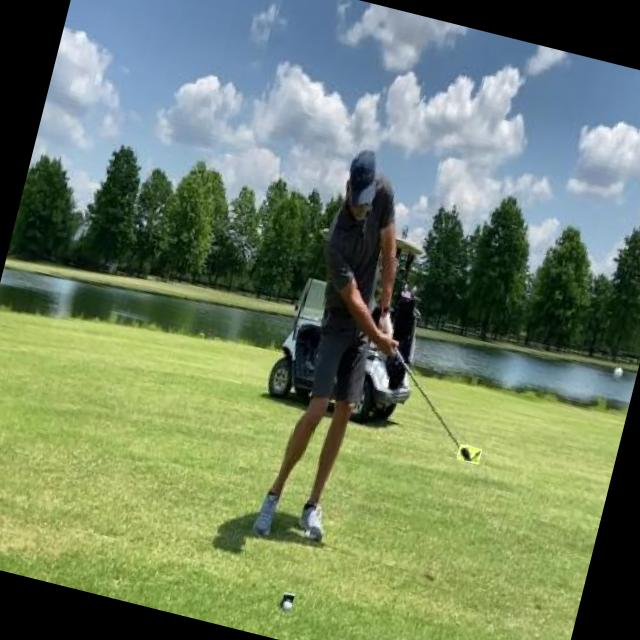club head: (456, 444, 482, 464)
